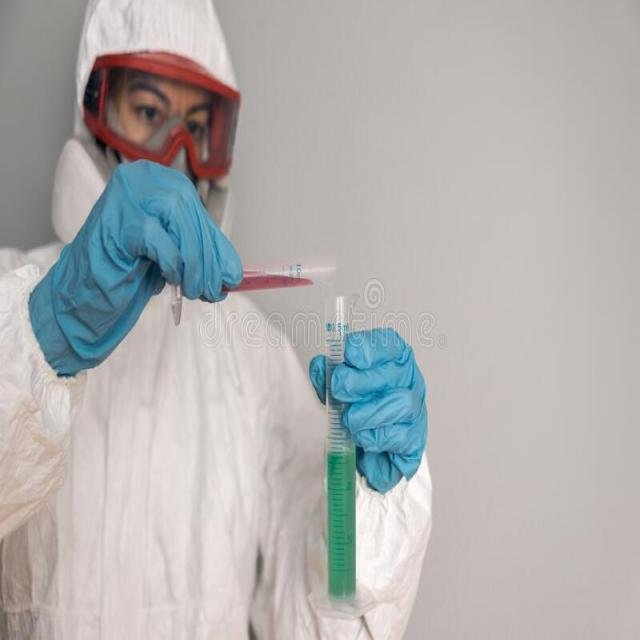Coverall: (1, 1, 454, 640)
Gloves: (36, 155, 242, 368), (311, 318, 438, 494)
